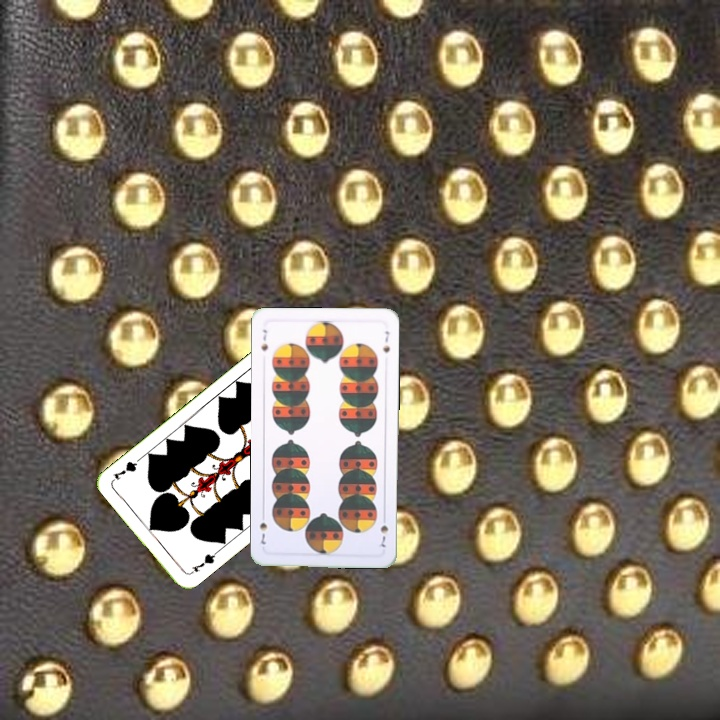G7: (185, 548, 220, 577)
S7: (375, 511, 391, 551), (257, 325, 271, 354)
